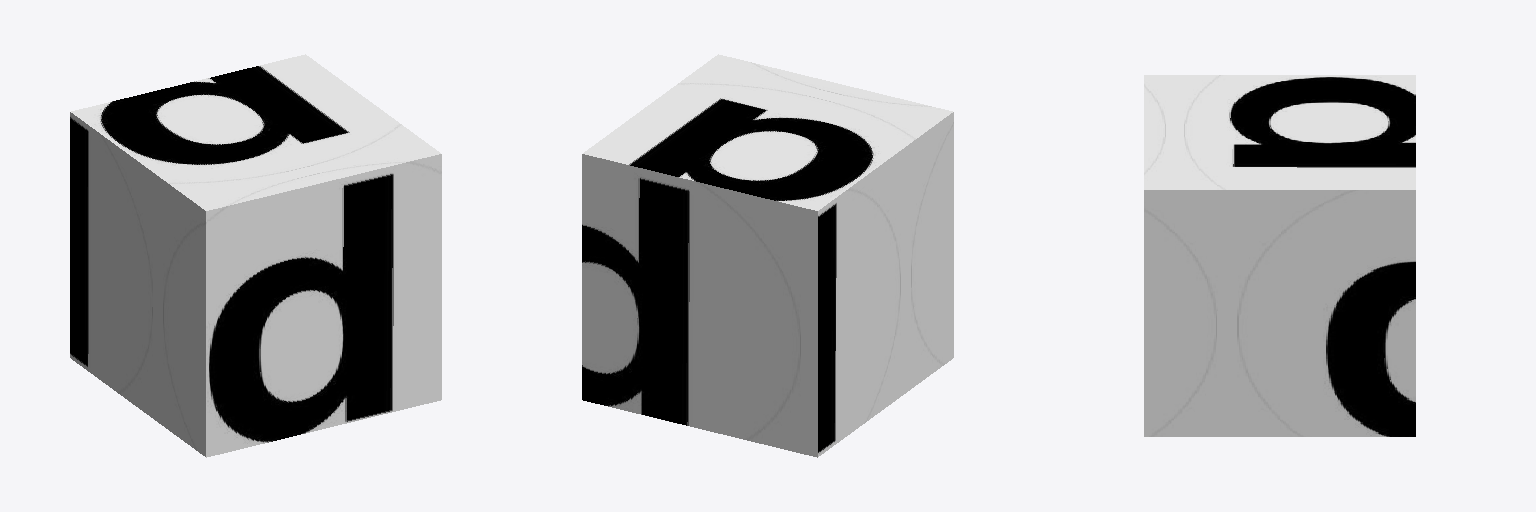
3 views of the same model, side by side, from view 1: azimuth 30°, elevation 25°; view 2: azimuth 150°, elevation 25°; view 3: azimuth 270°, elevation 25° (orthographic).
Parts seen in each view (by area): view 1: Cube; view 2: Cube; view 3: Cube.
Boxes of the visible parts, box(x1,y1,x2,y2) form: Cube: box(70, 54, 441, 457); Cube: box(582, 54, 953, 457); Cube: box(1144, 75, 1415, 436).
Bounding box in the file's own units: 0.5 × 0.5 × 0.5.
Materials: 1 (1 with a texture image).